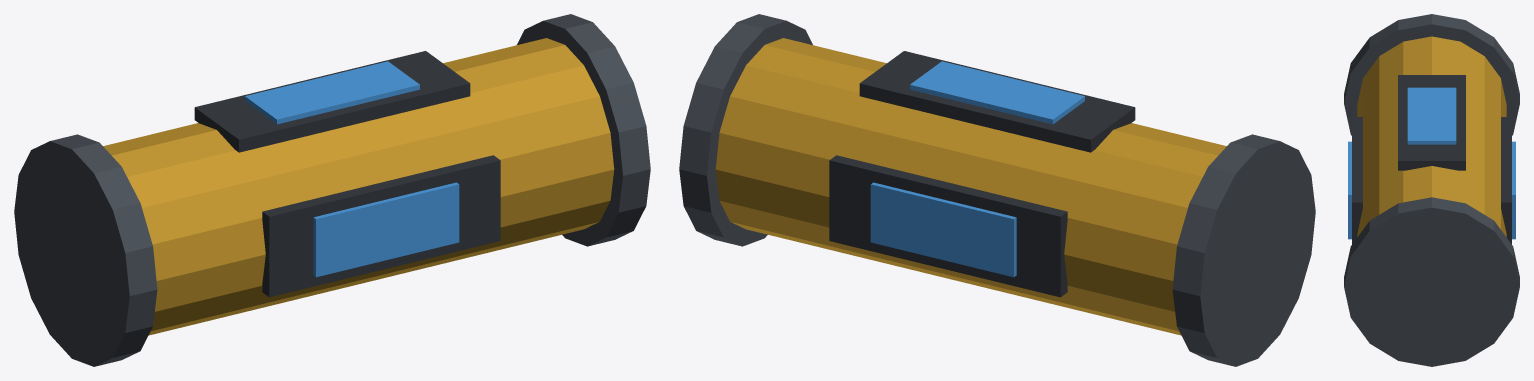
The model's file is cerpadlo_potrubi.glb.
3 views of the same model, side by side, from view 1: azimuth 30°, elevation 25°; view 2: azimuth 150°, elevation 25°; view 3: azimuth 270°, elevation 25° (orthographic). The views are drawn at different scales.
Parts seen in each view (by area): view 1: cerpadlo_potrubi; view 2: cerpadlo_potrubi; view 3: cerpadlo_potrubi.
Boxes of the visible parts, left/top/right/bottom form: cerpadlo_potrubi: left=14, top=14, right=650, bottom=366; cerpadlo_potrubi: left=679, top=14, right=1315, bottom=366; cerpadlo_potrubi: left=1344, top=14, right=1519, bottom=366.
Size of the model in its own units: 3.38 by 1.3 by 1.3.
1 material, 1 textured.
